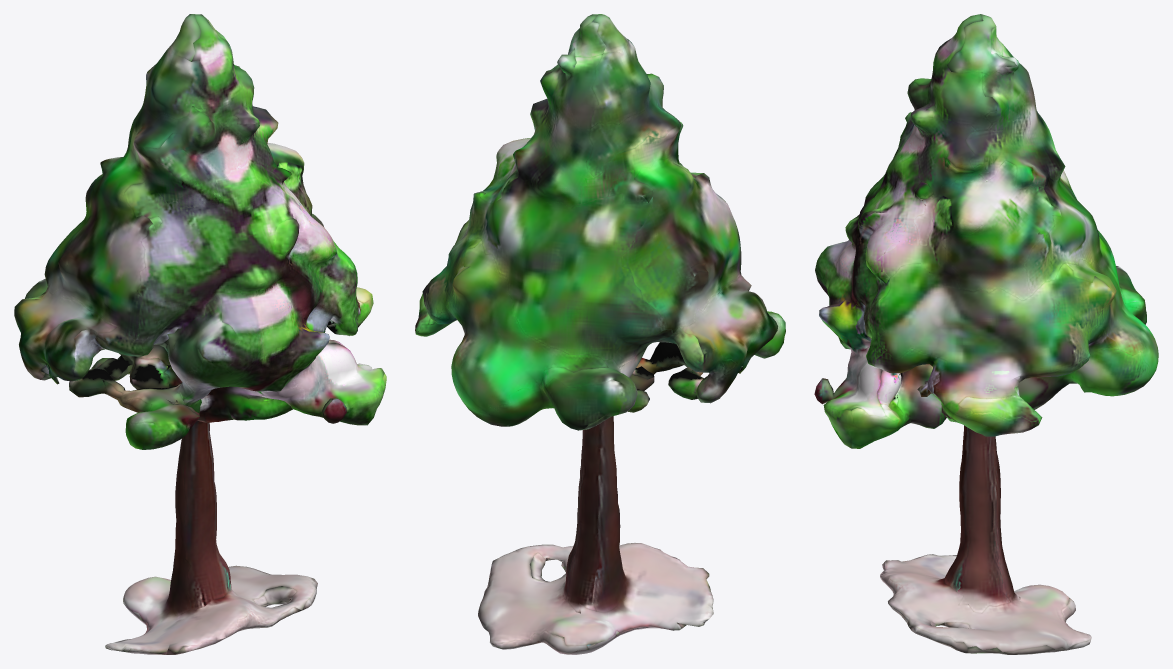
The model's file is 018bc279-5a46-756e-83f9-ffa1c4ded1d5.glb.
3 renders of one model, left to right at view 1: azimuth 30°, elevation 25°; view 2: azimuth 150°, elevation 25°; view 3: azimuth 270°, elevation 25°, orthographic.
Visible parts, largest first — view 1: model.obj; view 2: model.obj; view 3: model.obj.
Boxes of the visible parts, x1=… form: model.obj: x1=14, y1=14, x2=386, y2=654; model.obj: x1=415, y1=14, x2=785, y2=654; model.obj: x1=814, y1=14, x2=1158, y2=654.
Bounding box in the file's own units: 0.618 × 1.09 × 0.557.
Materials: 1 (1 with a texture image).
